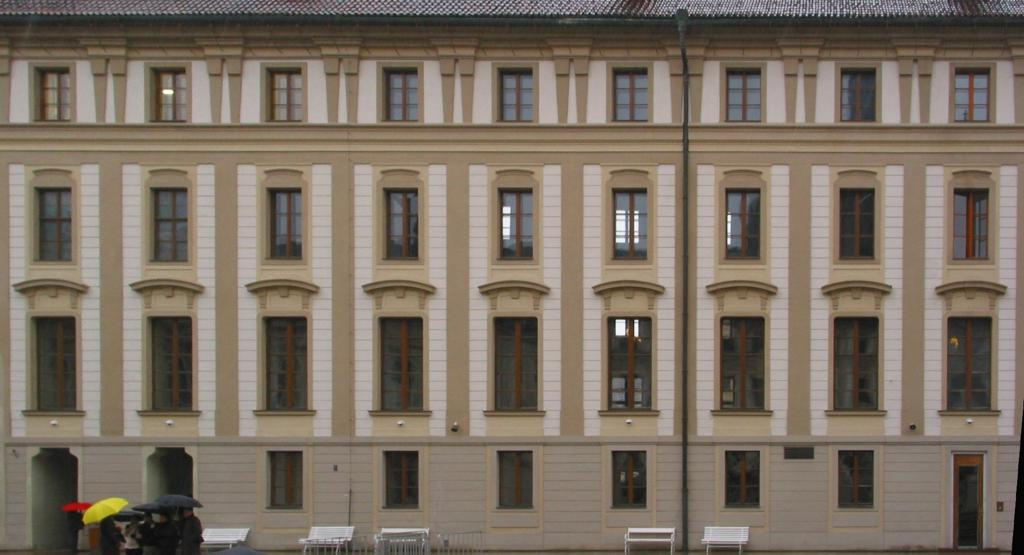window: (261, 316, 307, 410), (378, 317, 424, 411), (30, 316, 75, 411), (147, 316, 192, 411), (834, 317, 879, 412), (494, 317, 538, 412), (608, 317, 652, 411), (721, 317, 765, 410), (948, 317, 991, 410), (34, 187, 71, 261), (150, 188, 187, 261), (266, 188, 302, 260), (382, 188, 418, 259), (498, 188, 534, 259), (954, 188, 988, 260), (613, 188, 647, 259), (726, 188, 760, 259), (840, 188, 874, 259), (611, 451, 648, 509), (149, 67, 187, 123), (267, 451, 303, 509), (839, 450, 874, 509), (498, 451, 533, 509), (266, 68, 303, 122), (497, 68, 534, 122), (725, 451, 760, 508), (384, 452, 418, 509), (34, 67, 70, 120), (383, 68, 418, 122), (613, 68, 648, 122), (727, 68, 761, 122), (842, 68, 876, 122), (956, 68, 990, 121)
